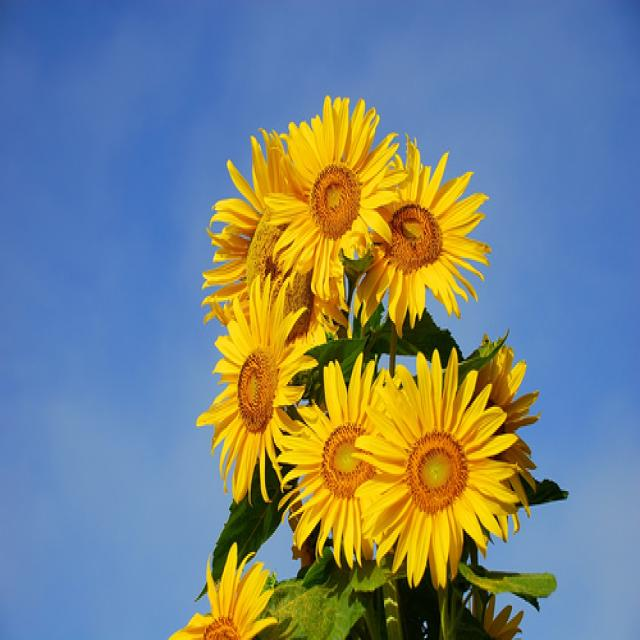sunflower: (352, 352, 526, 597), (197, 125, 342, 364), (265, 87, 413, 305), (343, 129, 492, 341), (189, 273, 319, 497), (277, 359, 408, 569), (169, 535, 283, 640)
